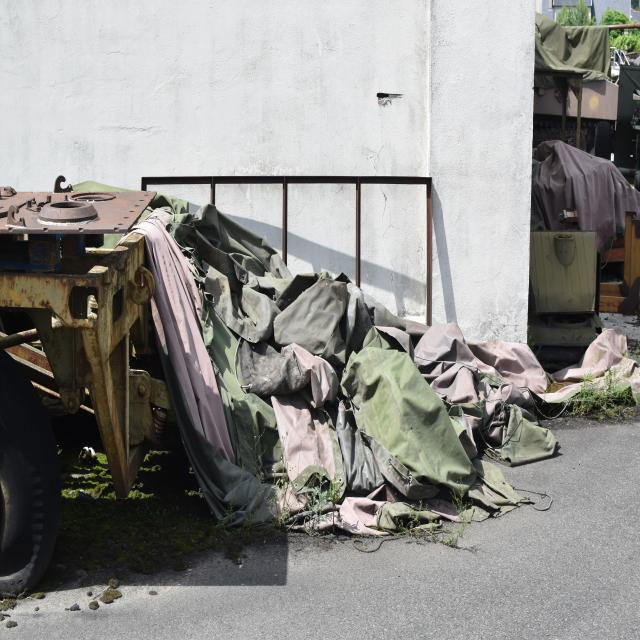entulho: (53, 165, 550, 550), (529, 138, 640, 352), (535, 8, 640, 117), (539, 314, 640, 424)
